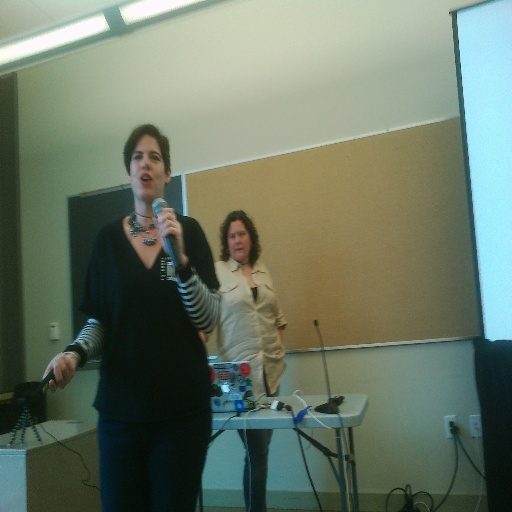hand: (148, 206, 191, 264), (40, 351, 80, 394)
